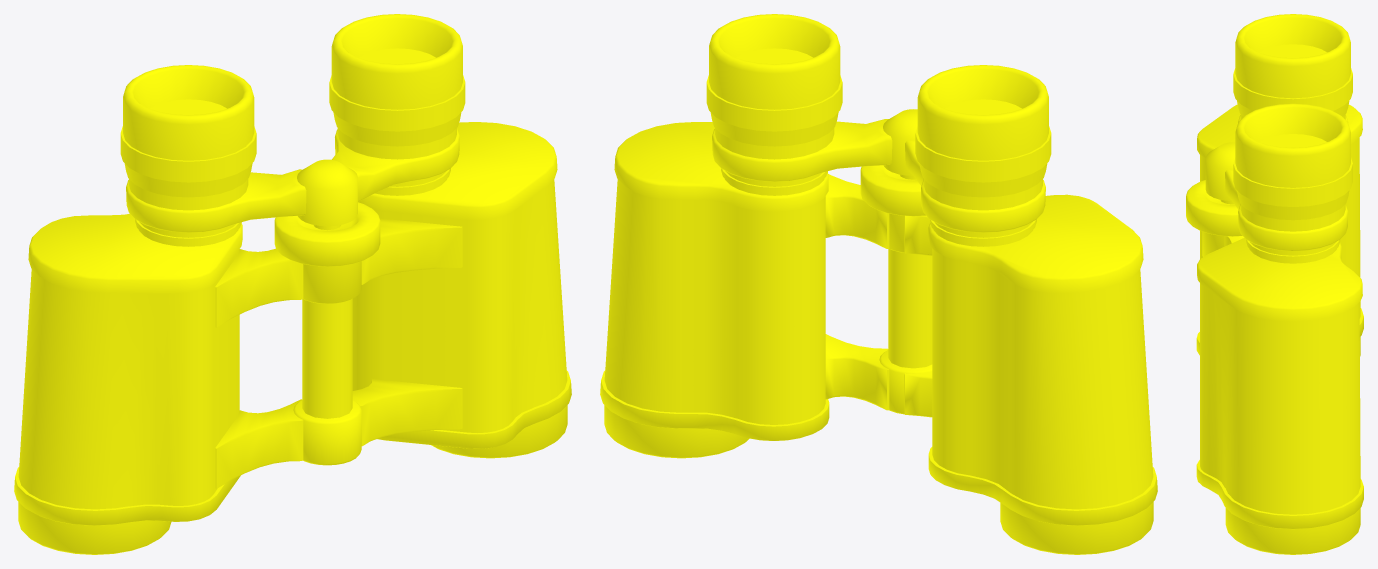
File: SM_Binocular_01.glb
The picture shows the model from 3 angles, left to right: view 1: azimuth 30°, elevation 25°; view 2: azimuth 150°, elevation 25°; view 3: azimuth 270°, elevation 25°; orthographic projection. The views are drawn at different scales.
Parts seen in each view (by area): view 1: SM_Binocular_01_LOD0; view 2: SM_Binocular_01_LOD0; view 3: SM_Binocular_01_LOD0.
Part boxes in pixels (left/top/right/bottom): SM_Binocular_01_LOD0: left=14, top=14, right=571, bottom=554; SM_Binocular_01_LOD0: left=600, top=14, right=1157, bottom=554; SM_Binocular_01_LOD0: left=1186, top=14, right=1363, bottom=554.
Size of what is drawn, in the model's own units: 0.2725 by 0.1994 by 0.089.
1 material, 1 textured.
